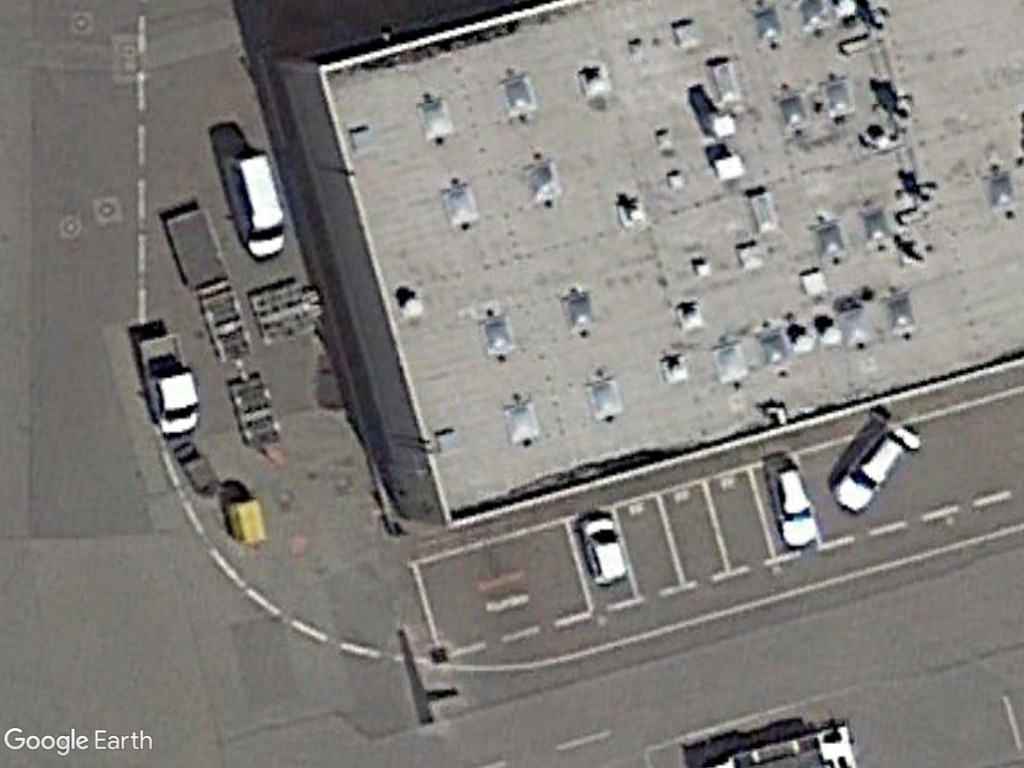car: (830, 427, 910, 517), (763, 457, 818, 551), (578, 511, 627, 589)
other: (131, 335, 199, 435)
van: (218, 146, 287, 261)
